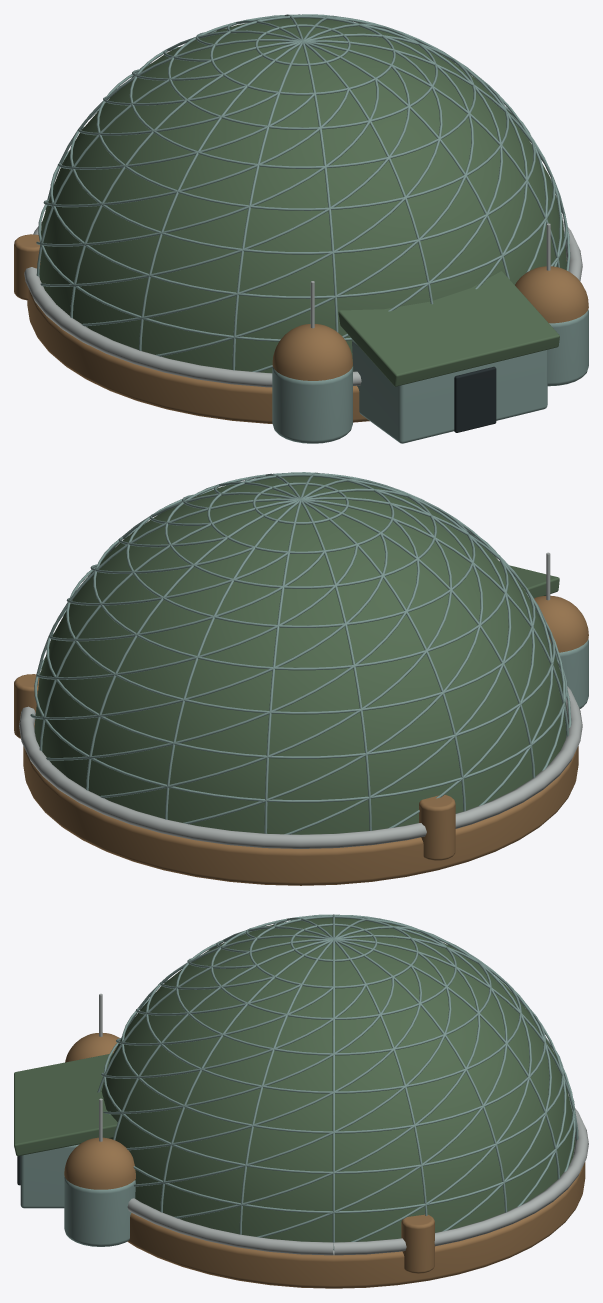
3 renders of one model, top to bottom at view 1: azimuth 30°, elevation 25°; view 2: azimuth 150°, elevation 25°; view 3: azimuth 270°, elevation 25°, orthographic. The views are drawn at different scales.
Visible parts, largest first — view 1: Hydroponics glazed hemisphere, Hydroponics glazed hemisphere triangular frame, Hydroponics annex sloped roof, Hydroponics foundation ring, Hydroponics service annex, Hydroponics annex tank, Hydroponics dome base rim, Hydroponics annex tank dome, Hydroponics annex tank dome.001, Hydroponics entry, Hydroponics annex tank.001, Hydroponics rim service stub.001; view 2: Hydroponics glazed hemisphere, Hydroponics glazed hemisphere triangular frame, Hydroponics foundation ring, Hydroponics dome base rim, Hydroponics rim service stub.001, Hydroponics annex tank dome, Hydroponics annex tank, Hydroponics rim service stub, Hydroponics annex sloped roof; view 3: Hydroponics glazed hemisphere, Hydroponics glazed hemisphere triangular frame, Hydroponics foundation ring, Hydroponics annex sloped roof, Hydroponics dome base rim, Hydroponics annex tank.001, Hydroponics annex tank dome.001, Hydroponics service annex, Hydroponics rim service stub, Hydroponics annex tank dome.
Part boxes in pixels (left/top/right/bottom): Hydroponics glazed hemisphere: left=39, top=18, right=566, bottom=373; Hydroponics glazed hemisphere triangular frame: left=36, top=14, right=570, bottom=372; Hydroponics annex sloped roof: left=338, top=271, right=559, bottom=386; Hydroponics foundation ring: left=27, top=260, right=566, bottom=423; Hydroponics service annex: left=352, top=340, right=547, bottom=443; Hydroponics annex tank: left=272, top=367, right=352, bottom=443; Hydroponics dome base rim: left=24, top=221, right=582, bottom=387; Hydroponics annex tank dome: left=272, top=324, right=352, bottom=380; Hydroponics annex tank dome.001: left=515, top=266, right=588, bottom=323; Hydroponics entry: left=454, top=366, right=496, bottom=432; Hydroponics annex tank.001: left=547, top=309, right=588, bottom=386; Hydroponics rim service stub.001: left=14, top=234, right=40, bottom=300; Hydroponics glazed hemisphere: left=34, top=476, right=566, bottom=834; Hydroponics glazed hemisphere triangular frame: left=30, top=472, right=571, bottom=834; Hydroponics foundation ring: left=23, top=722, right=578, bottom=885; Hydroponics dome base rim: left=19, top=686, right=582, bottom=848; Hydroponics rim service stub.001: left=419, top=794, right=455, bottom=860; Hydroponics annex tank dome: left=534, top=595, right=588, bottom=652; Hydroponics annex tank: left=559, top=639, right=588, bottom=708; Hydroponics rim service stub: left=14, top=674, right=39, bottom=738; Hydroponics annex sloped roof: left=509, top=565, right=559, bottom=597; Hydroponics glazed hemisphere: left=101, top=918, right=575, bottom=1242; Hydroponics glazed hemisphere triangular frame: left=97, top=914, right=578, bottom=1250; Hydroponics foundation ring: left=127, top=1162, right=585, bottom=1288; Hydroponics annex sloped roof: left=14, top=1053, right=119, bottom=1156; Hydroponics dome base rim: left=127, top=1108, right=588, bottom=1255; Hydroponics annex tank.001: left=64, top=1177, right=135, bottom=1246; Hydroponics annex tank dome.001: left=64, top=1137, right=135, bottom=1189; Hydroponics service annex: left=20, top=1144, right=79, bottom=1208; Hydroponics rim service stub: left=401, top=1214, right=434, bottom=1273; Hydroponics annex tank dome: left=65, top=1033, right=119, bottom=1062.
Bounding box in the file's own units: 3.33 × 1.77 × 3.75.
